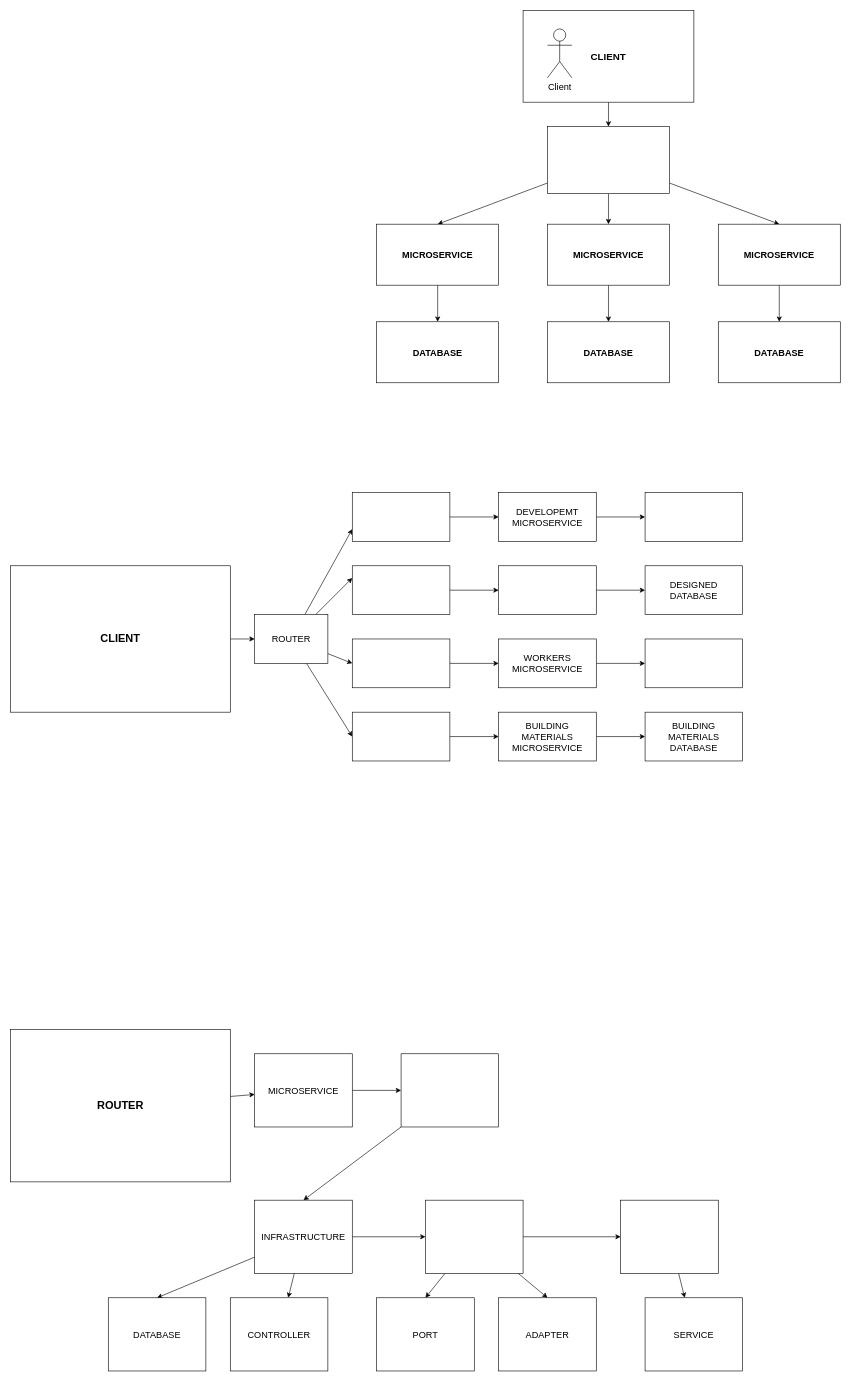
This 851x1382 diagram has some shape labels left out. Each missing label, with the box of its shape:
API: (547, 126, 669, 194)
APPLICATION: (620, 1200, 718, 1273)
ARCHITECTURE: (400, 1053, 499, 1127)
BUILDING MATERIALS ROUTER: (352, 712, 450, 761)
DESIGNED MICROSERVICE: (498, 565, 596, 615)
DESIGNED ROUTER: (352, 565, 450, 615)
DEVELOPEMT DATABASE: (644, 492, 743, 541)
DEVELOPEMT ROUTER: (352, 492, 450, 541)
DOMAIN: (425, 1200, 523, 1273)
WORKERS DATABASE: (644, 638, 743, 688)
WORKERS ROUTER: (352, 638, 450, 688)
